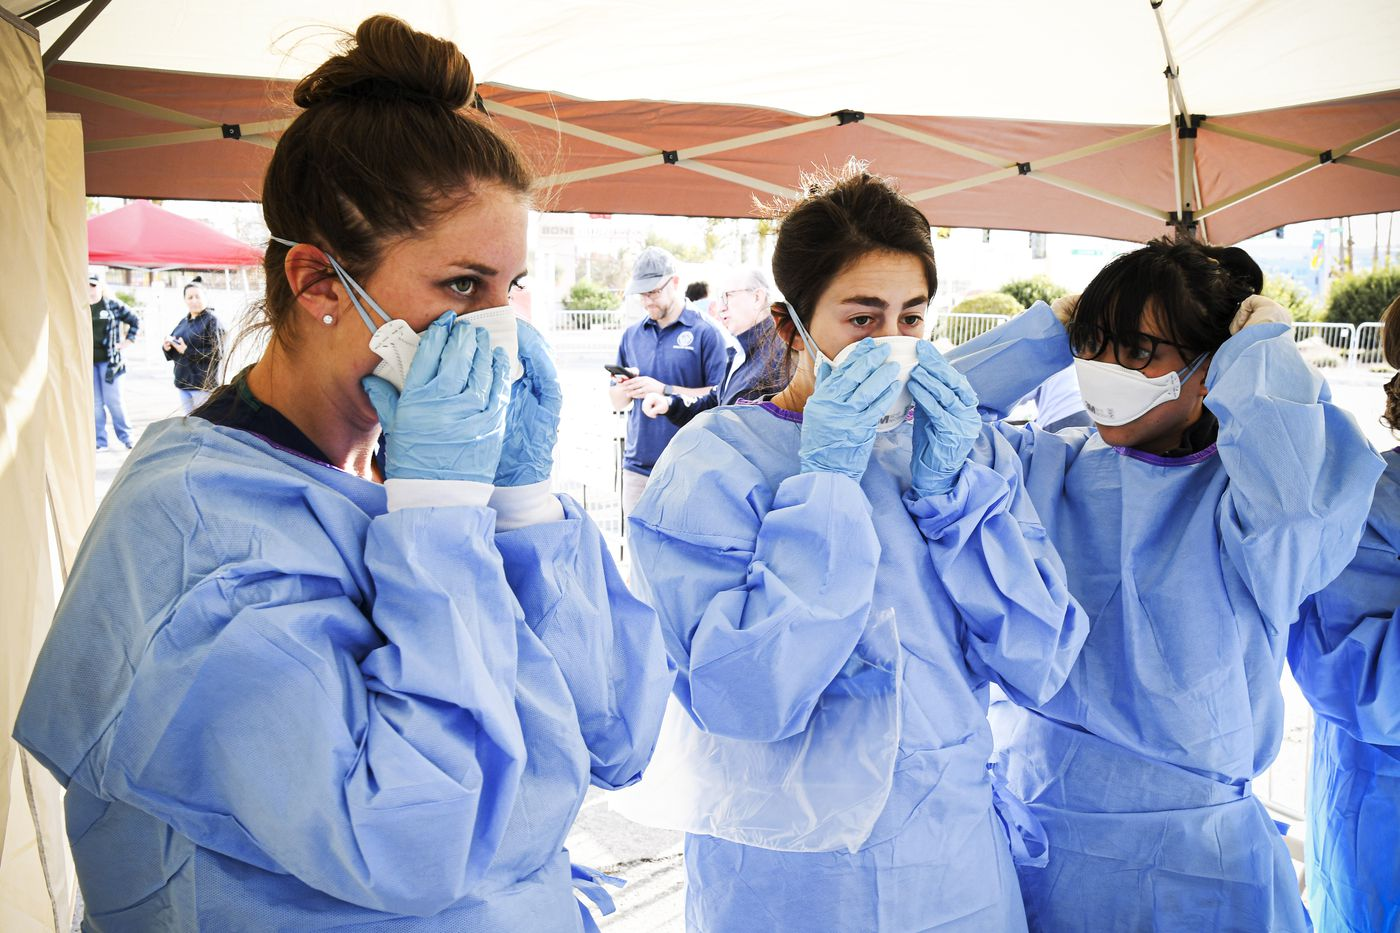Coverall: (57, 413, 652, 933), (635, 403, 1007, 933), (1003, 408, 1346, 933)
Gloves: (355, 322, 507, 482), (896, 334, 999, 485), (492, 326, 582, 488), (801, 340, 893, 476)
mask_weared_incorrect: (1068, 321, 1191, 452)
with_mask: (370, 255, 532, 430)
